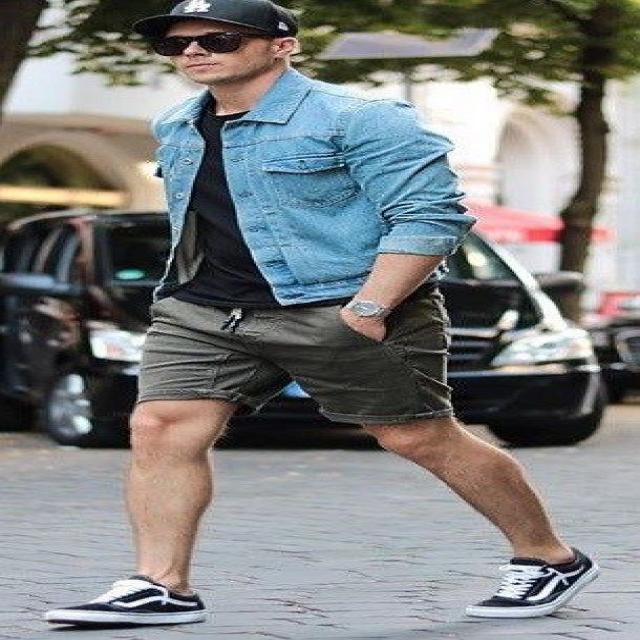suspicious-objects: (132, 0, 298, 37)
